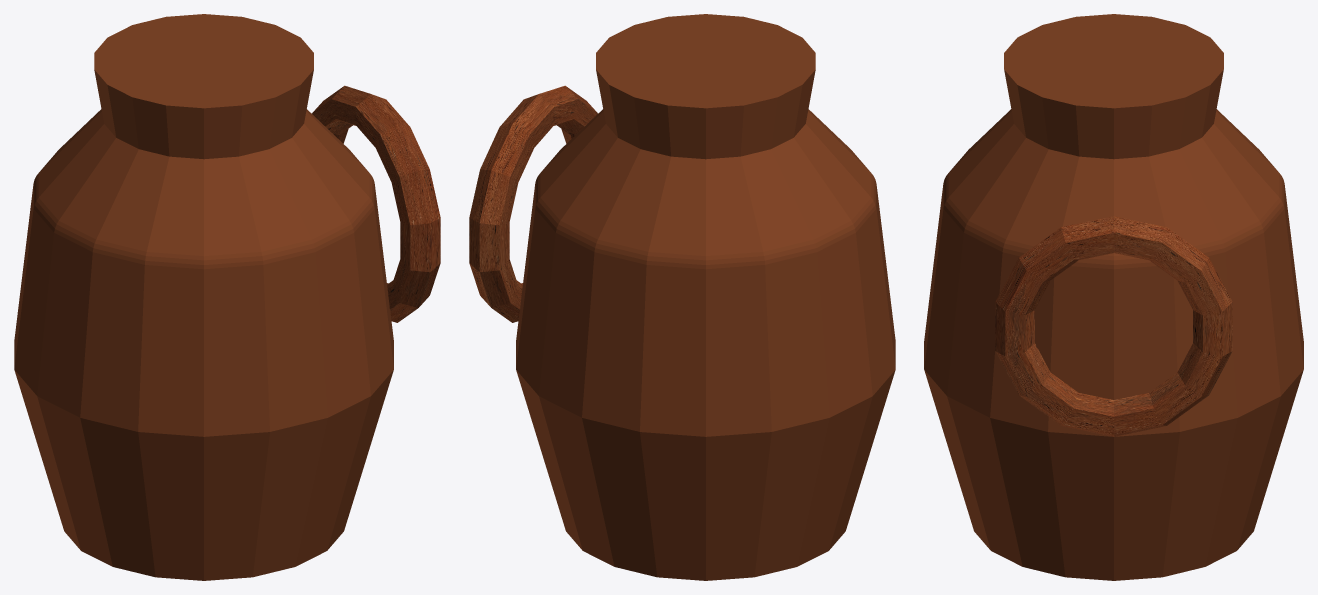
File: beer-jug-v01-photo.glb
The picture shows the model from 3 angles, left to right: view 1: azimuth 30°, elevation 25°; view 2: azimuth 150°, elevation 25°; view 3: azimuth 270°, elevation 25°; orthographic projection.
Visible parts, largest first — view 1: beer-jug; view 2: beer-jug; view 3: beer-jug.
Part boxes in pixels (box(x1,y1,x2,y2)): beer-jug: box(14, 14, 440, 580); beer-jug: box(469, 14, 895, 580); beer-jug: box(924, 14, 1303, 580).
Bounding box in the file's own units: 0.3973 × 0.5 × 0.3742.
1 material, 1 textured.
